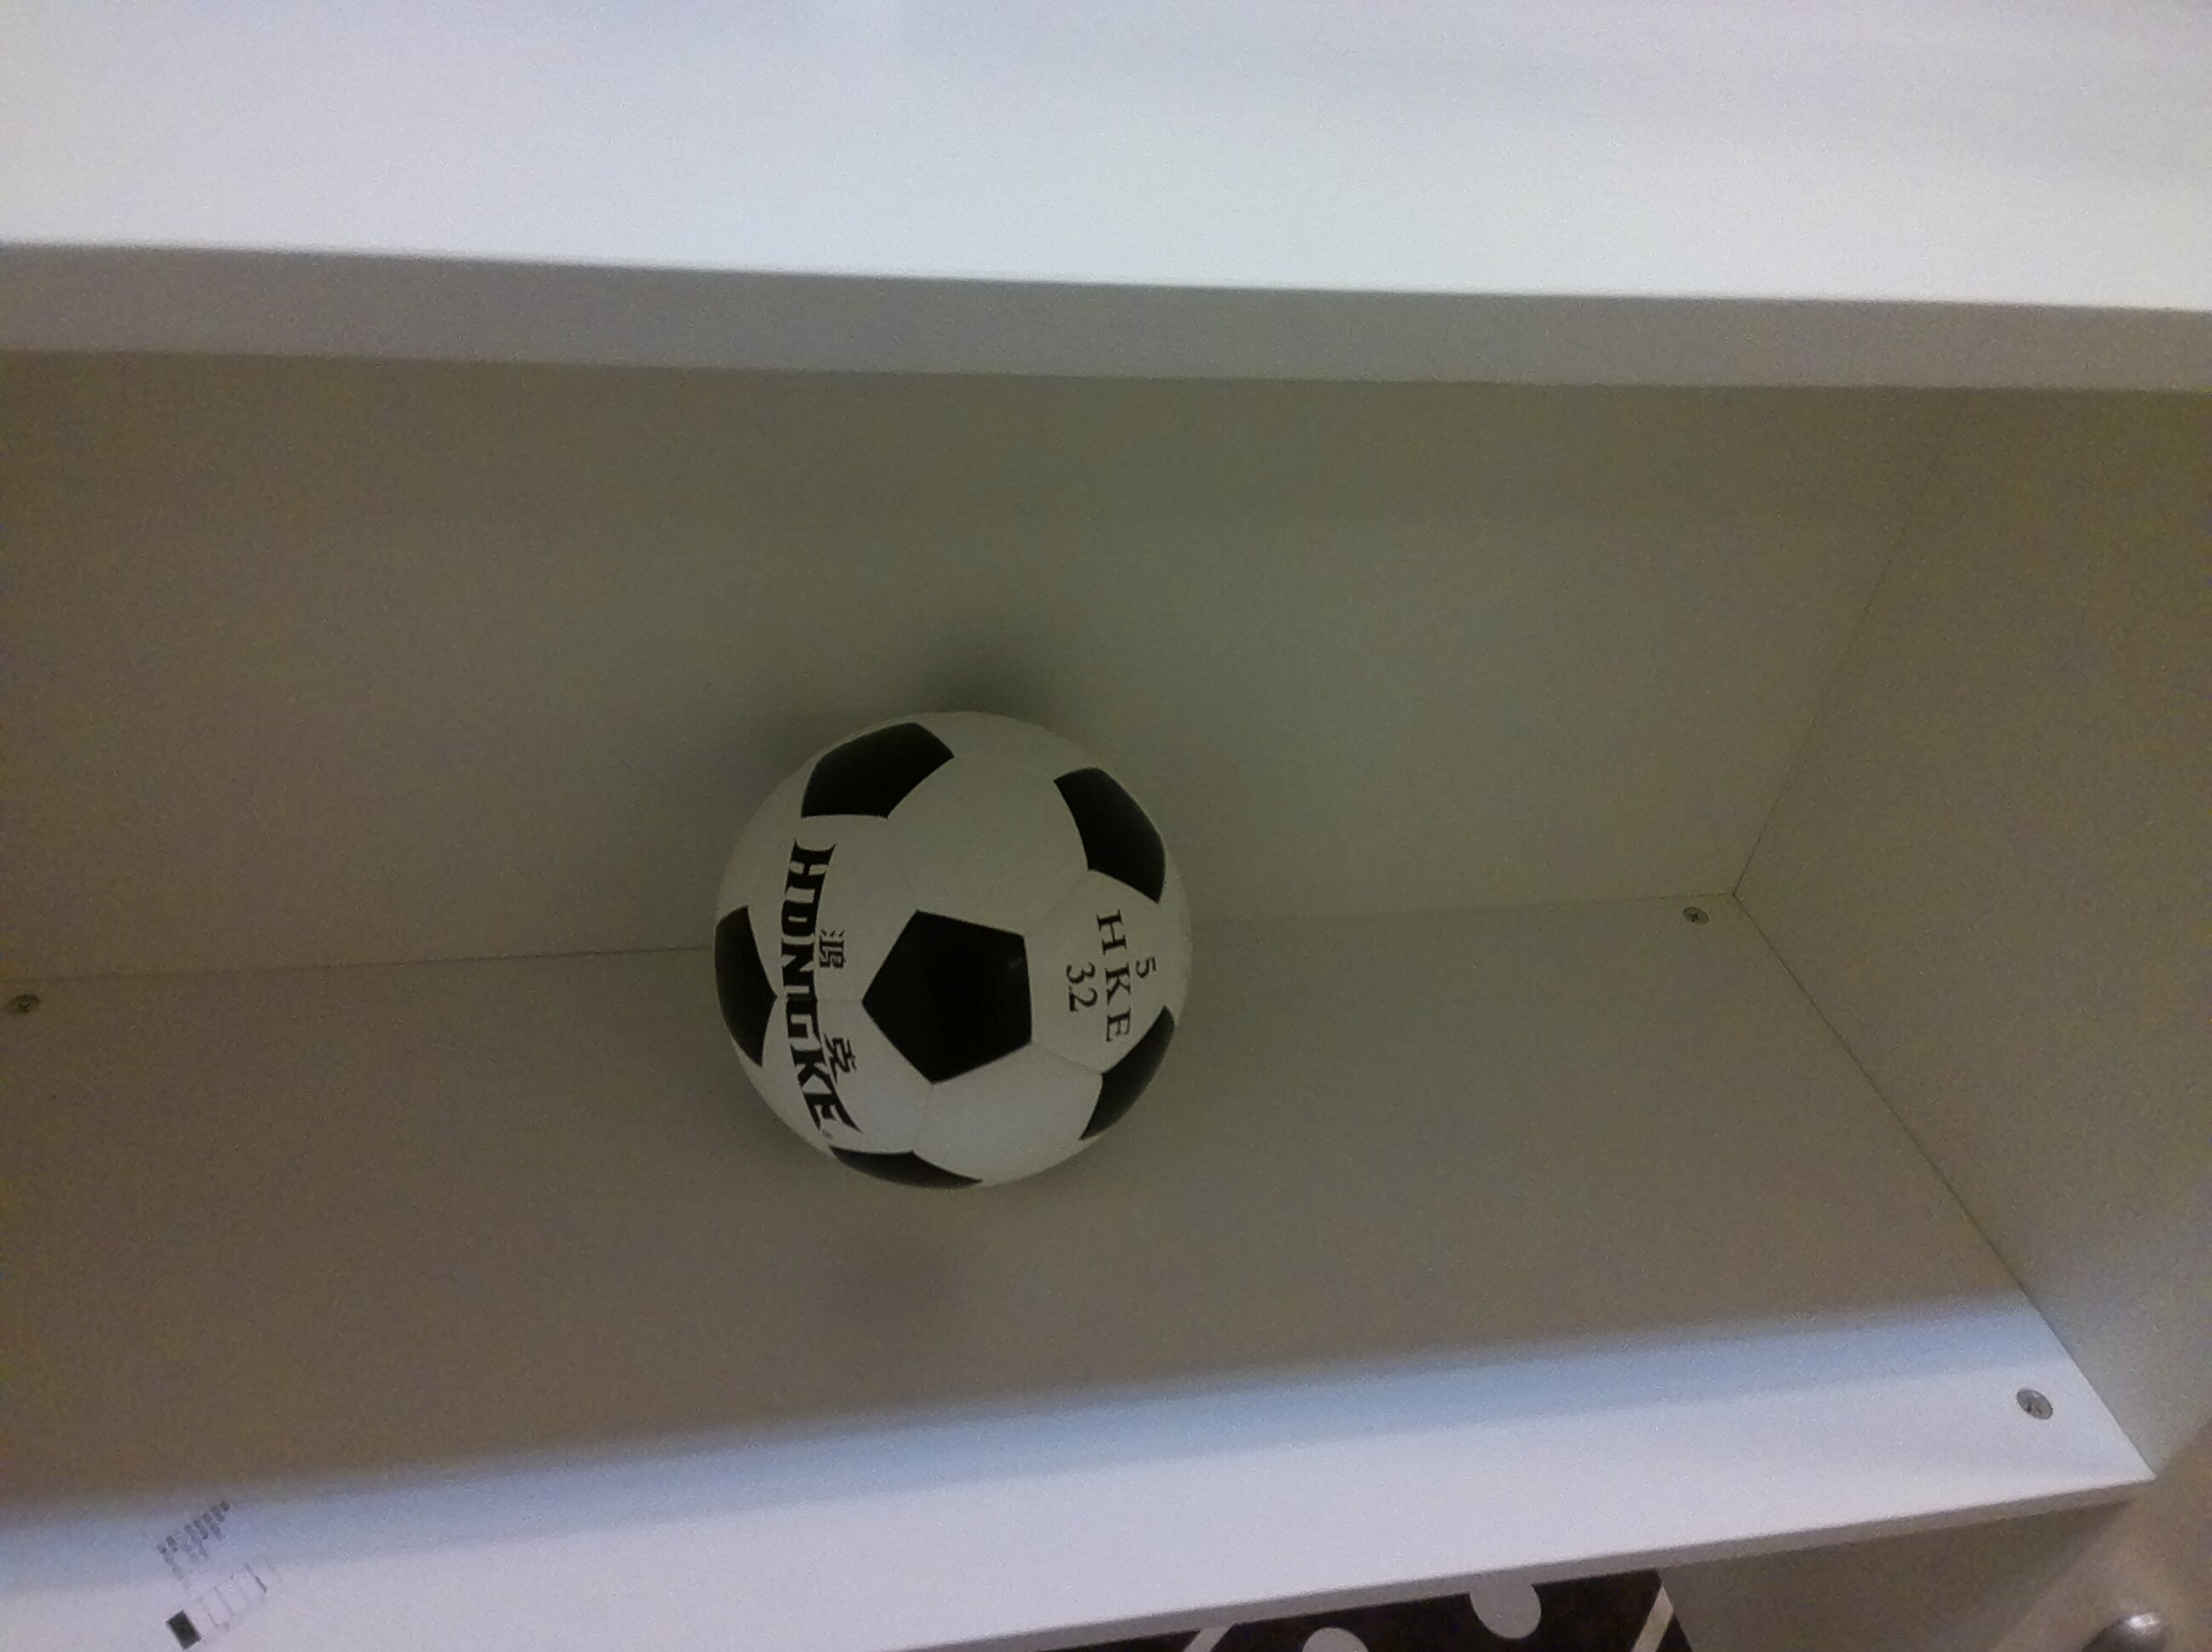football: (697, 701, 1225, 1232)
